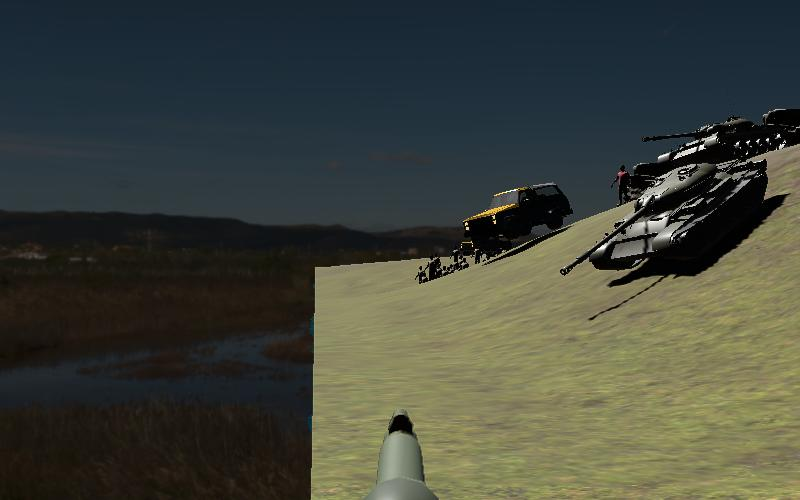Tank: (557, 157, 769, 278), (640, 114, 766, 168)
car: (463, 183, 573, 255)
